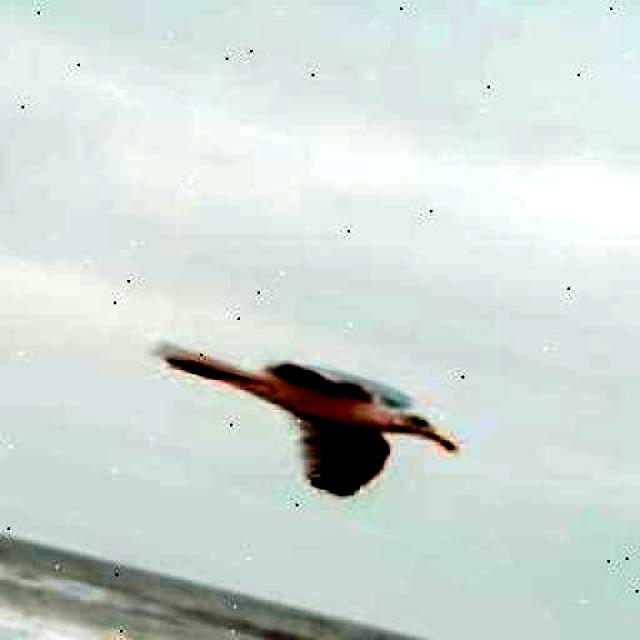airplane: (121, 322, 468, 524)
